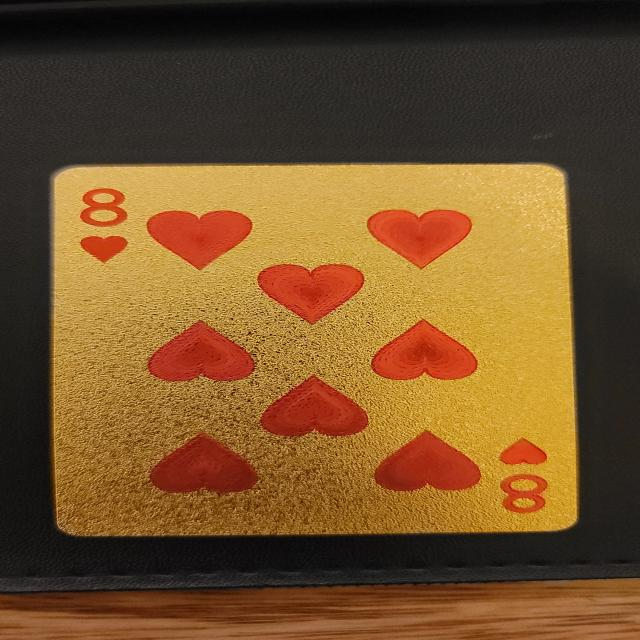8 of hearts: (54, 164, 578, 537)
